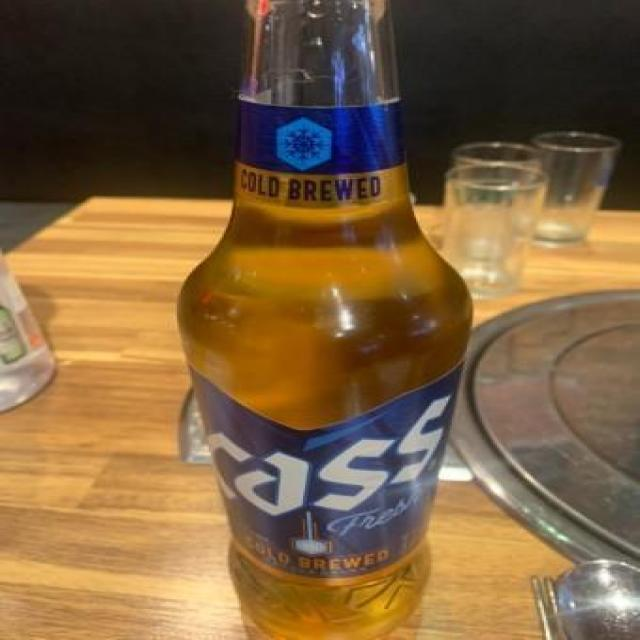beer-bottle: (198, 0, 492, 640)
